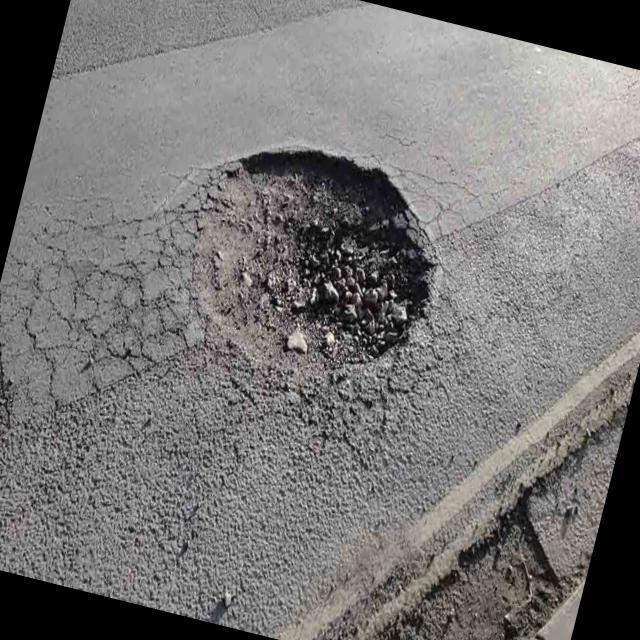Pothole: (158, 112, 458, 396)
